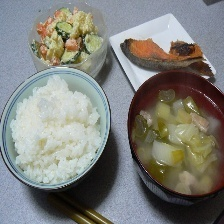rice: (8, 75, 106, 186)
